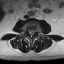CCS_normal: (30, 29, 32, 39)
LFS_stenosis: (34, 28, 37, 34)
LLS_stenosis: (32, 29, 34, 35)
RFS_stenosis: (26, 28, 28, 34)
RLS_stenosis: (28, 29, 30, 35)
